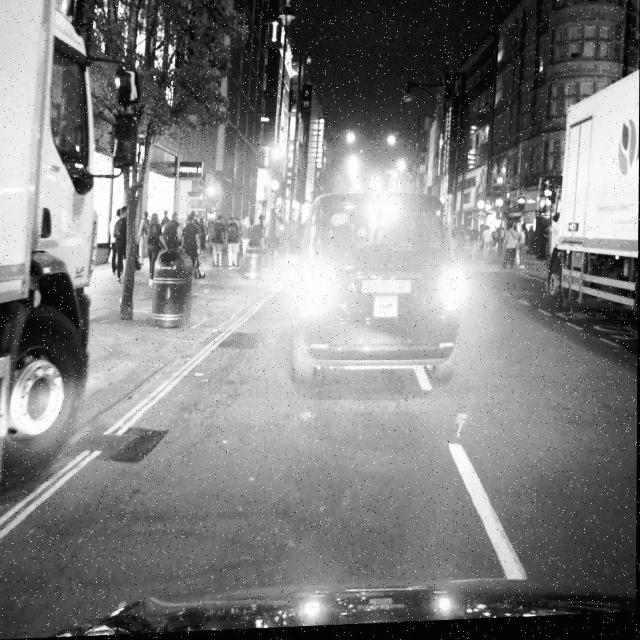Truck: (0, 0, 137, 493), (536, 73, 640, 327)
